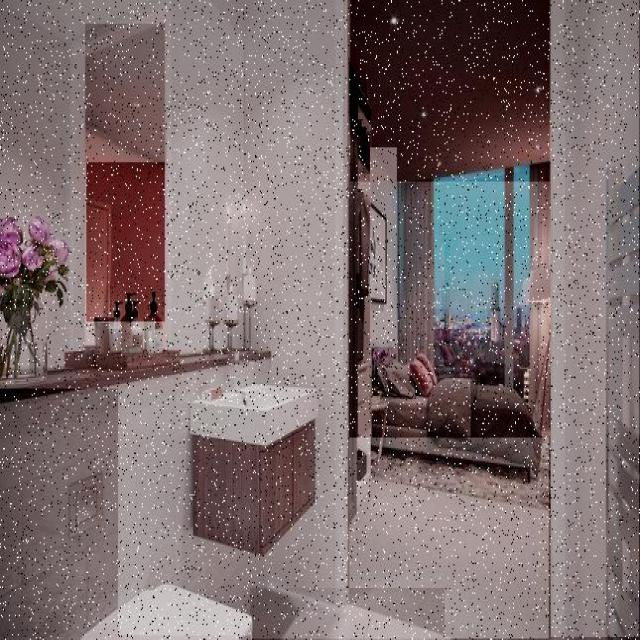Wall: (0, 0, 347, 636), (551, 0, 639, 637), (350, 438, 549, 639), (350, 0, 550, 182), (0, 0, 138, 235), (0, 390, 118, 637), (86, 127, 165, 321), (86, 25, 165, 162), (250, 588, 445, 639), (371, 148, 397, 347)
